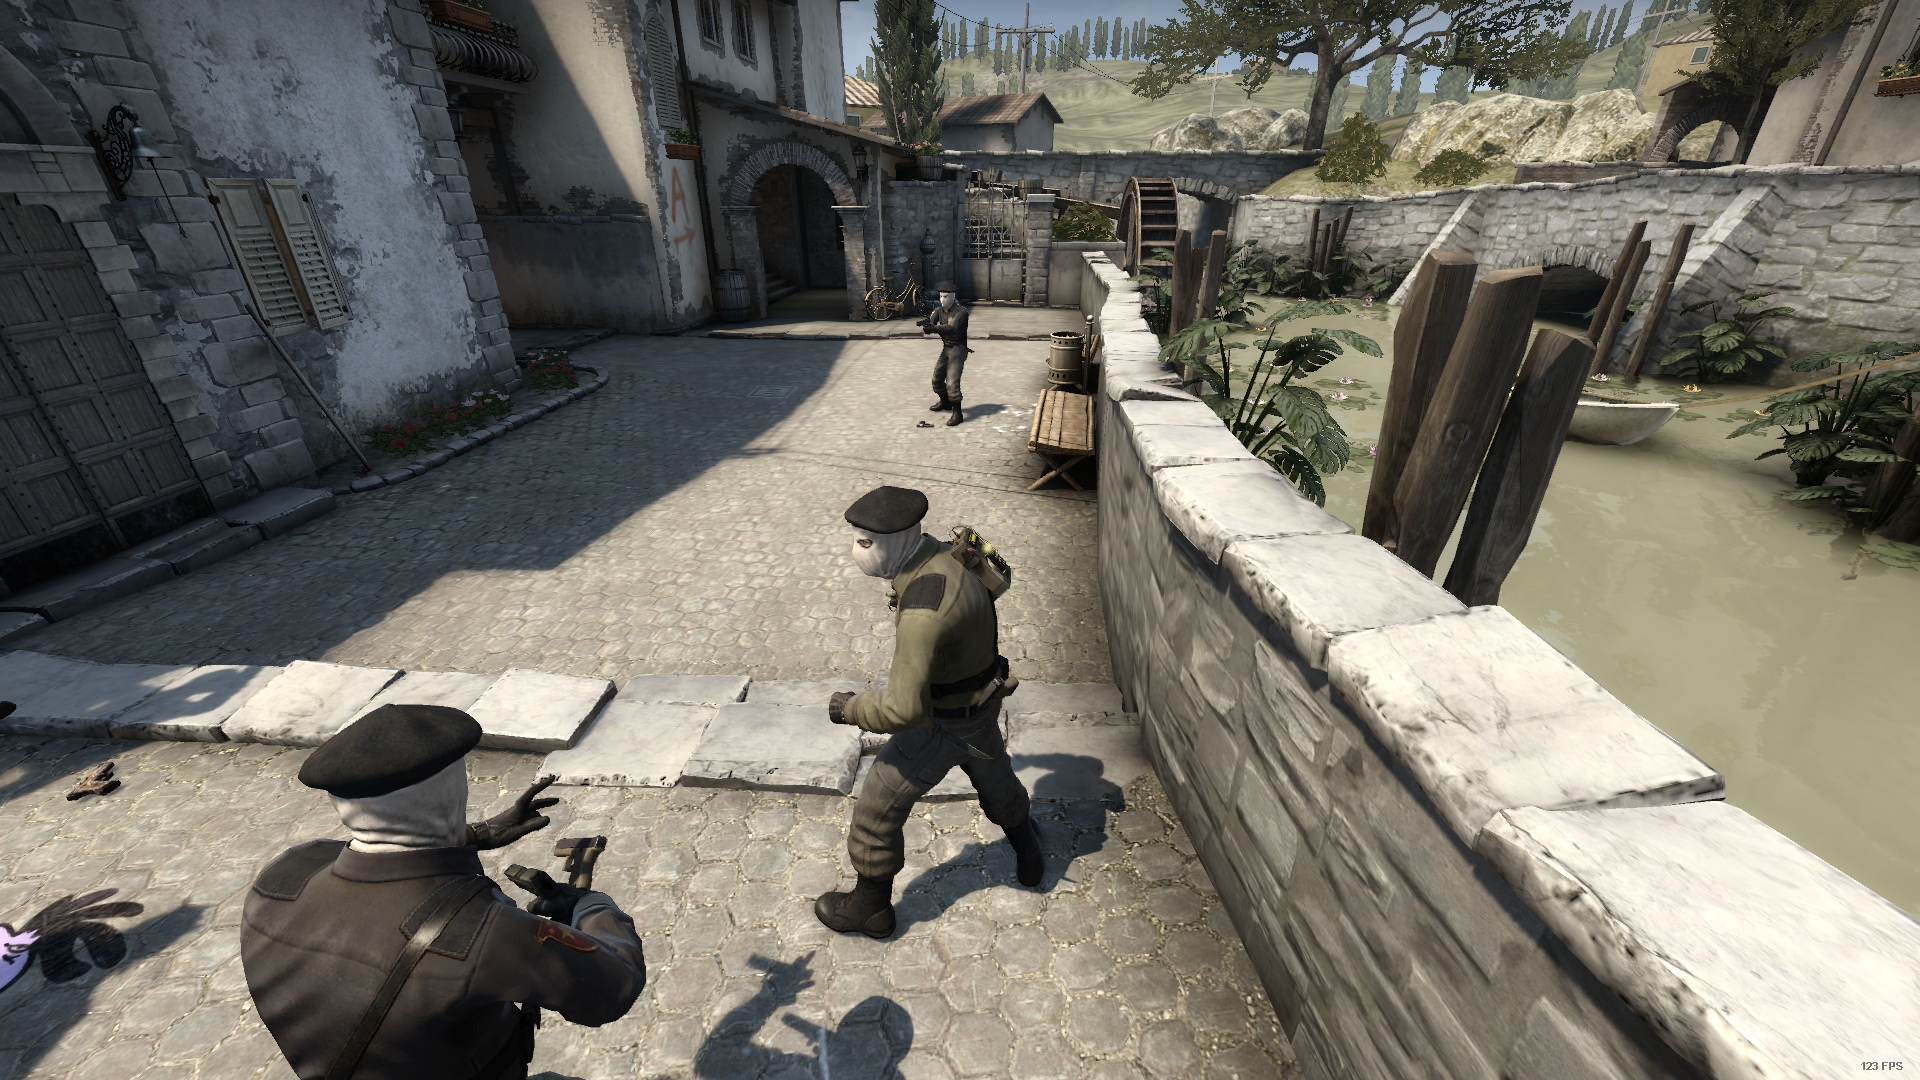t: (243, 703, 647, 1080), (814, 487, 1047, 938), (923, 285, 971, 425)
